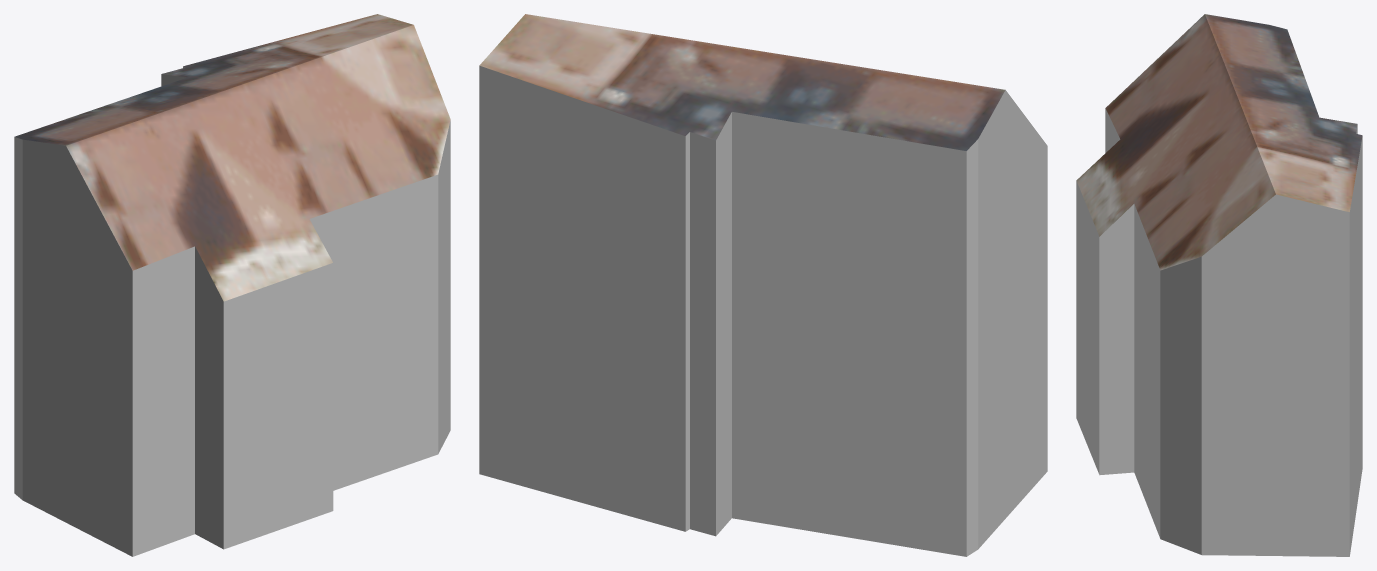
The model's file is DEBW_0010007Tvji.gltf.
3 views of the same model, side by side, from view 1: azimuth 30°, elevation 25°; view 2: azimuth 150°, elevation 25°; view 3: azimuth 270°, elevation 25° (orthographic). The views are drawn at different scales.
Parts seen in each view (by area): view 1: Z_UP; view 2: Z_UP; view 3: Z_UP.
Part boxes in pixels (box(x1,y1,x2,y2)): Z_UP: box(14, 14, 450, 556); Z_UP: box(479, 14, 1047, 556); Z_UP: box(1076, 14, 1362, 556).
Bounding box in the file's own units: 24.38 × 22.14 × 15.87.
2 materials, 1 textured.
